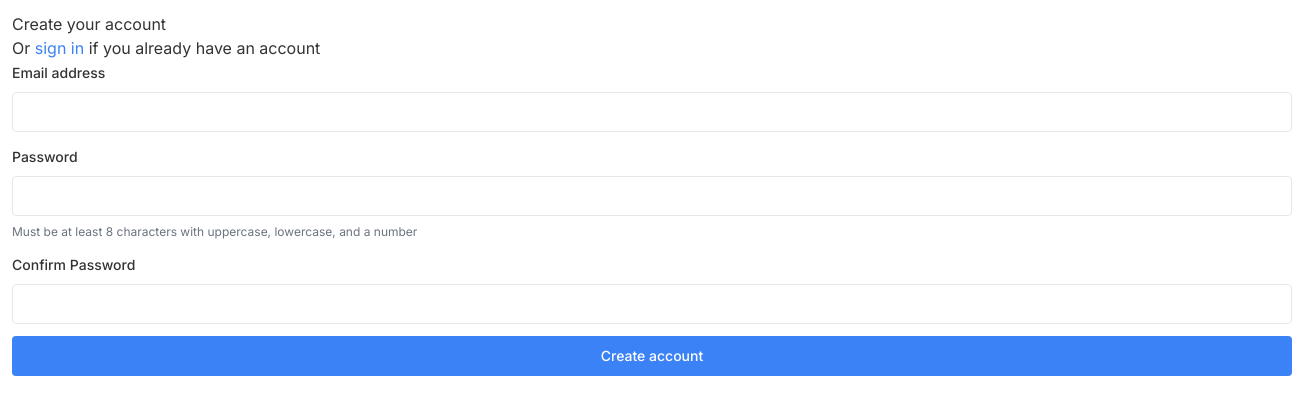
Test case: Sign-Up Verification Flow › should show verification message after successful sign-up
Type "test@example.com" into the field labelled "Email address" at (652, 112), box [12,92,1292,132]
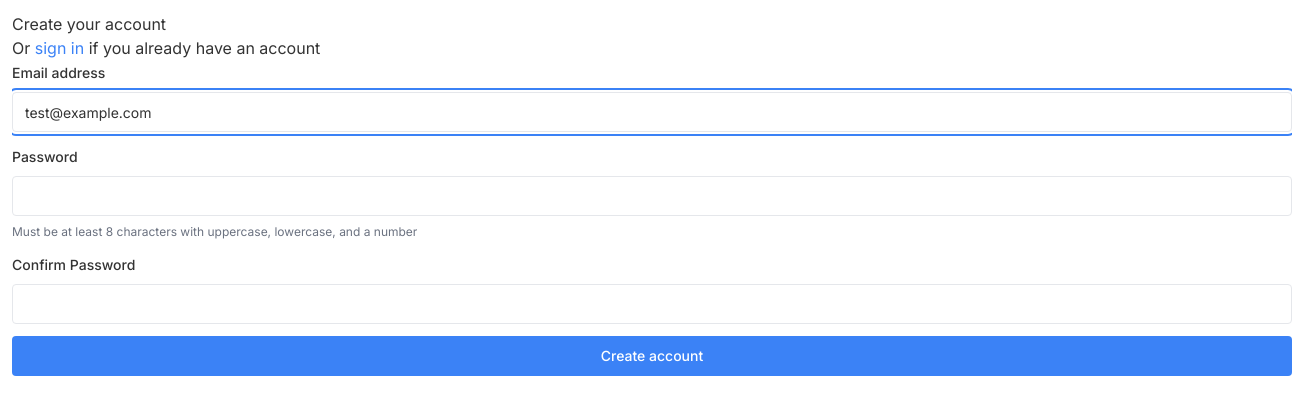
Type "Password123" into the password field labelled "Password" at (652, 196), box [12,176,1292,216]
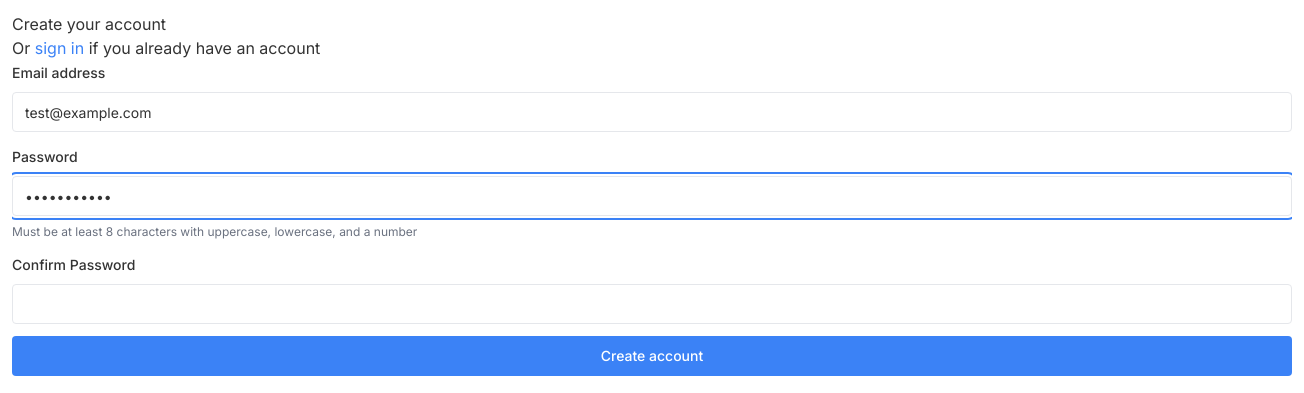
Type "Password123" into the password field labelled "Confirm Password" at (652, 304), box [12,284,1292,324]
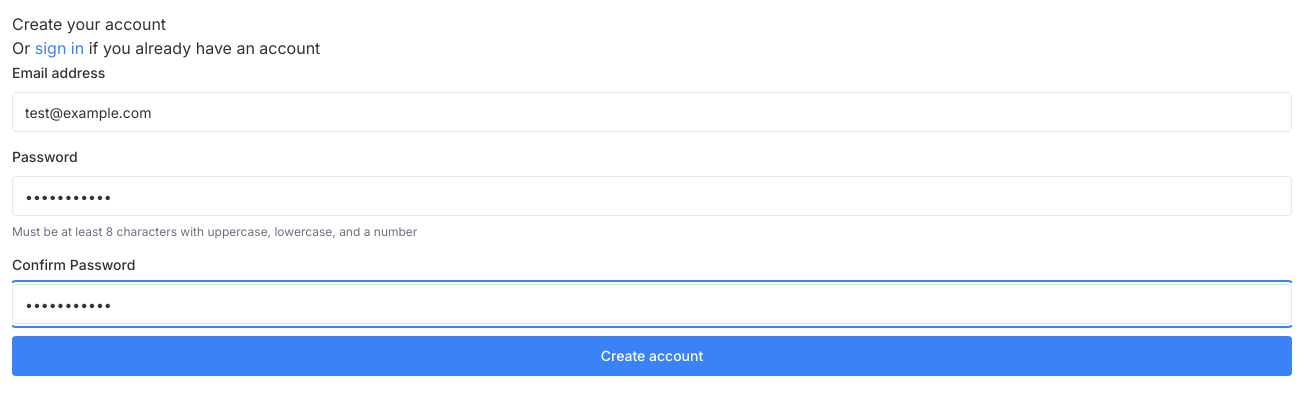
Click the button "Create account" at (652, 356), box [12,336,1292,376]
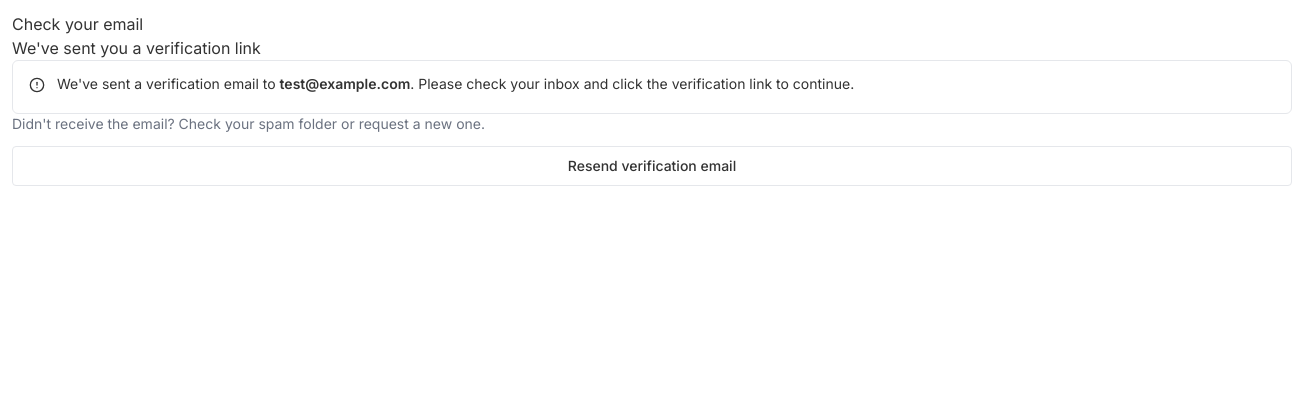
Expected: the heading "Check your email" is shown, [12,14,143,34]
Expected: the text "test@example.com" is shown, [280,75,410,92]
Expected: the text "We've sent a verification email" is shown, [57,75,276,92]
